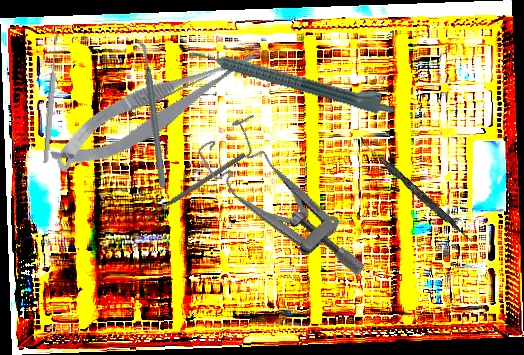Chopper: (97, 38, 204, 189)
Handpiece: (189, 37, 399, 119)
Micro Scissor: (40, 38, 276, 181)
Pusher: (143, 151, 247, 222)
Spatula Surgical: (355, 137, 477, 244)
Speculum: (192, 100, 370, 314)
Surgical Spoon: (42, 33, 61, 164)
